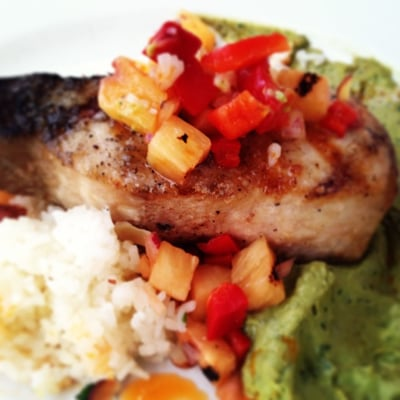curry: (239, 226, 400, 400)
